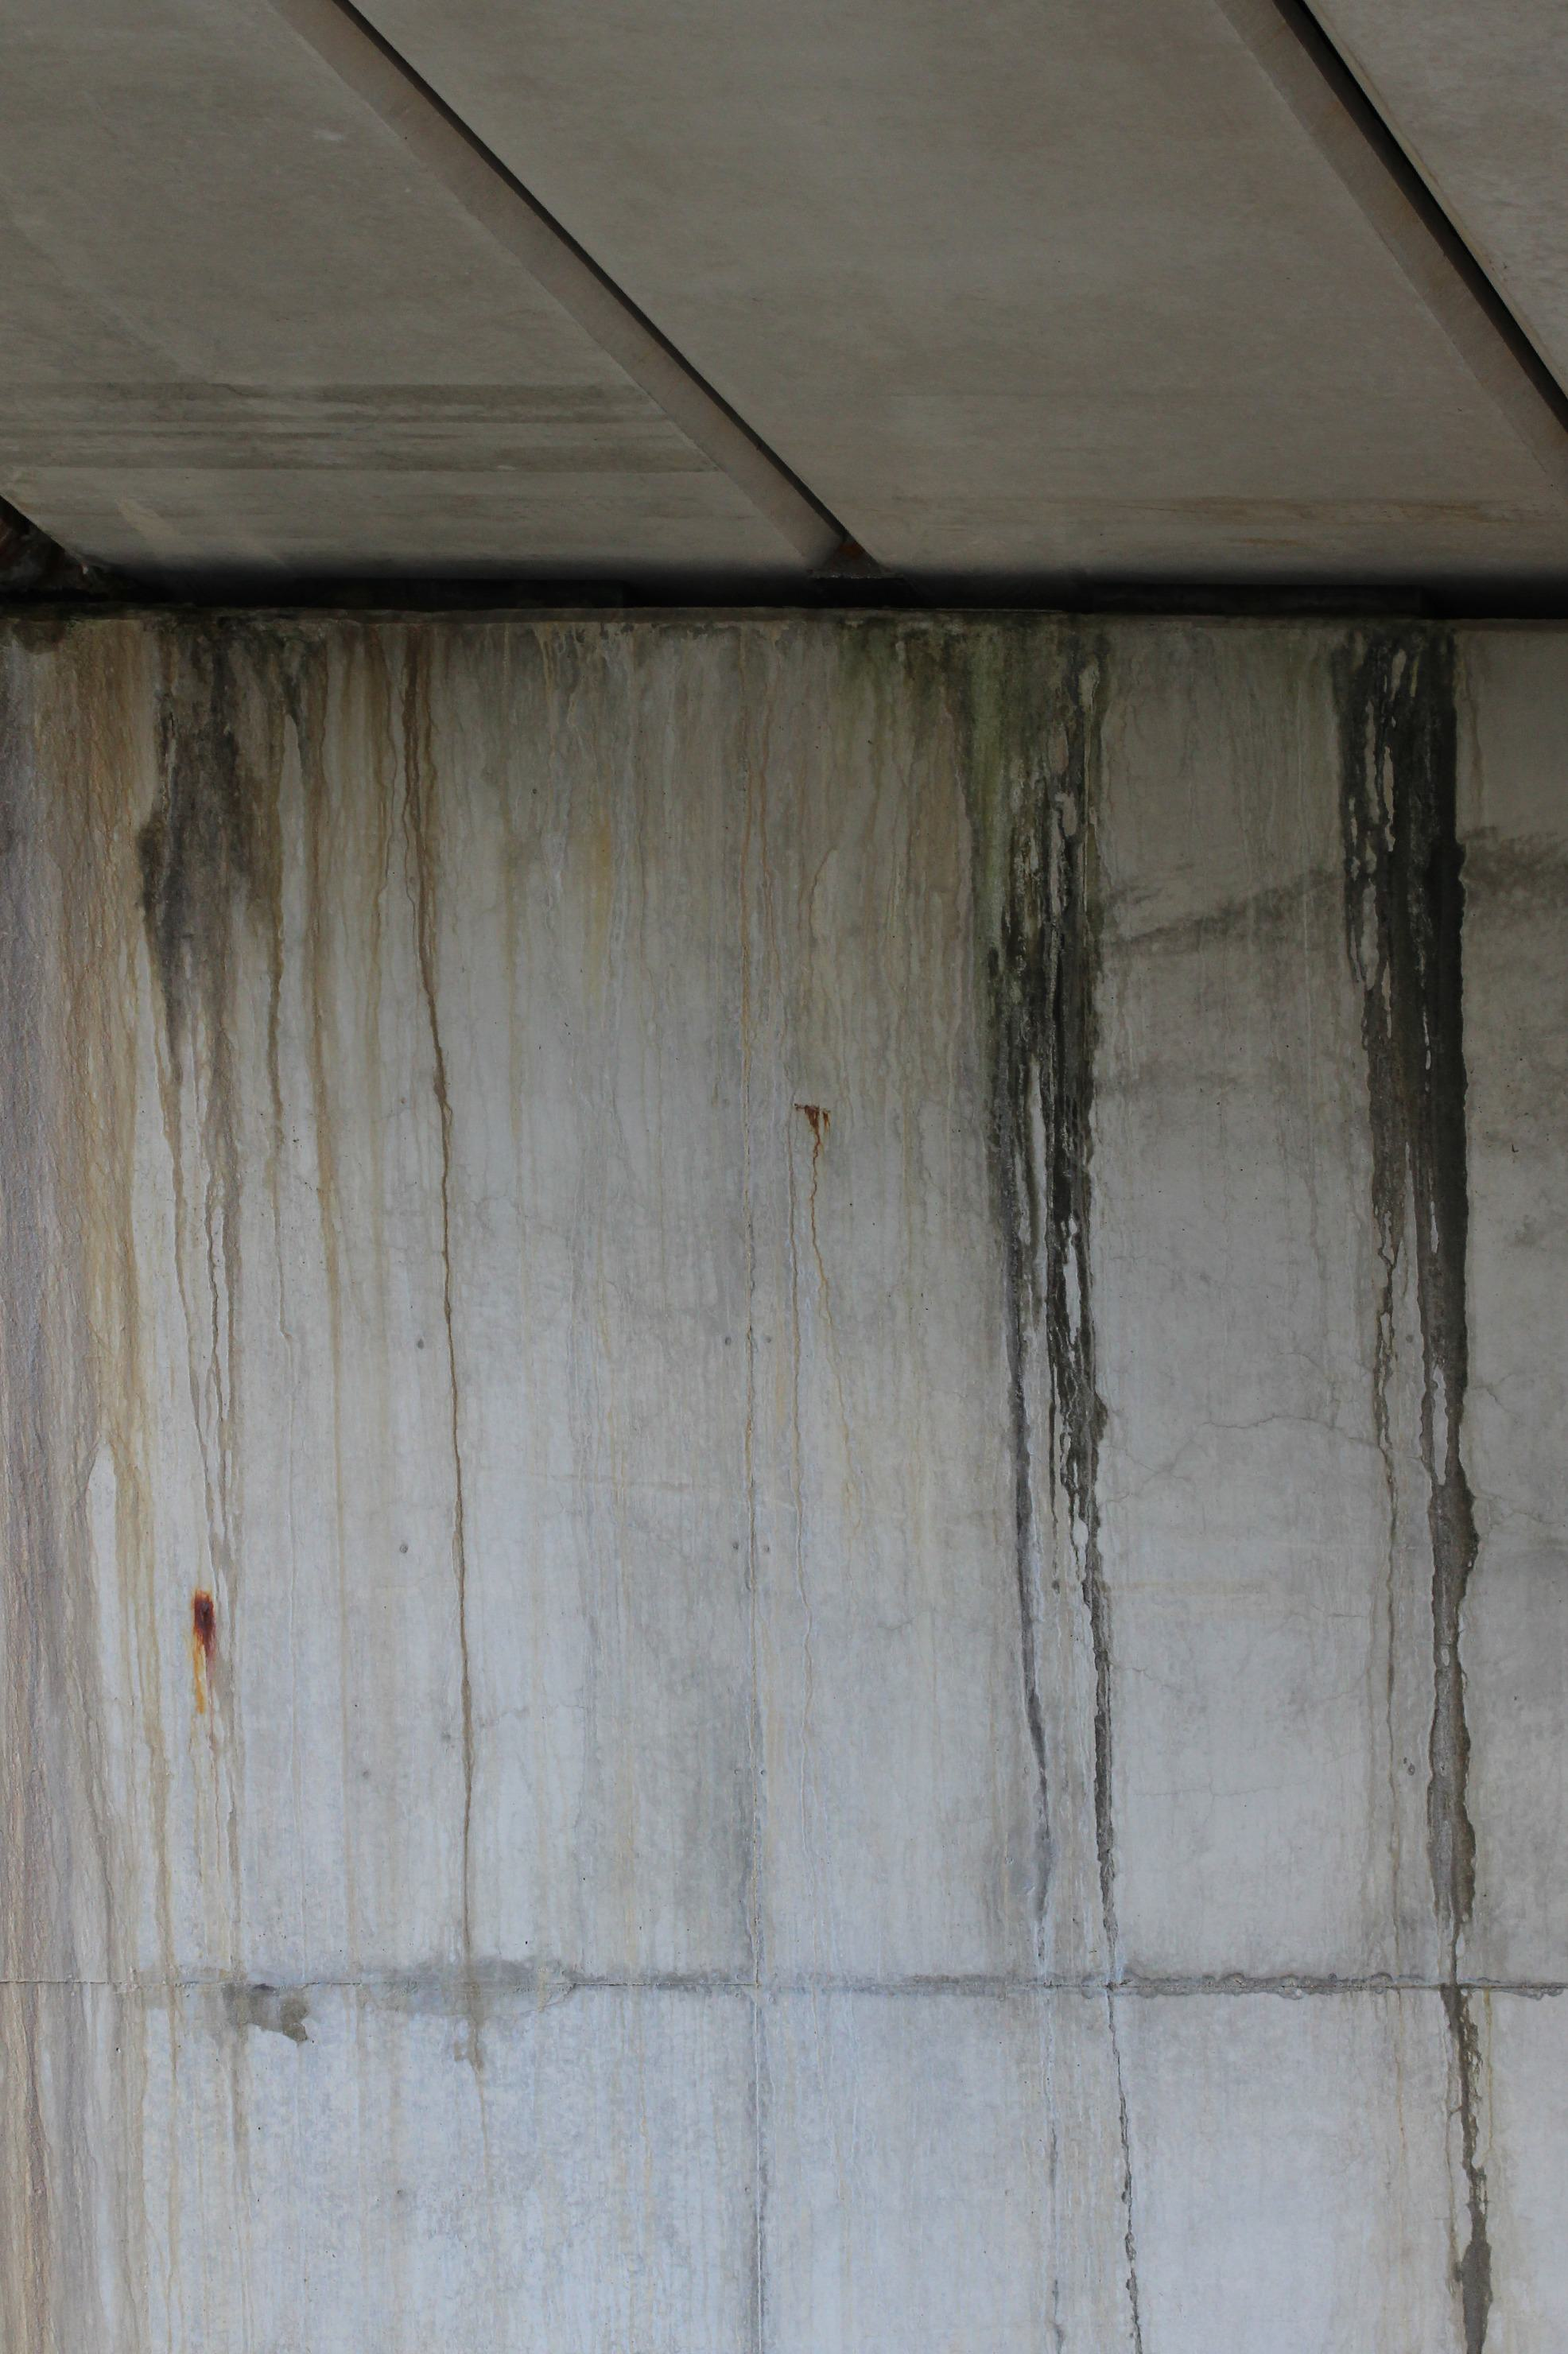Corrosion: (0, 627, 348, 2354), (943, 616, 1146, 2354), (1330, 616, 1503, 2354), (793, 1101, 831, 1283), (191, 1593, 215, 1717)
Crack: (399, 620, 494, 2179)
